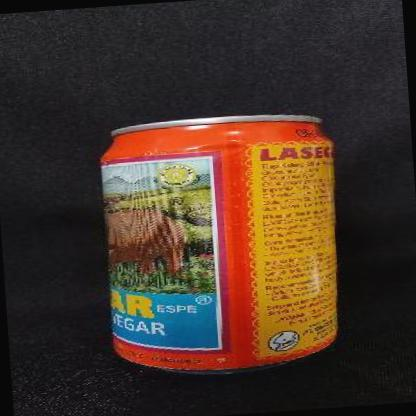alumunium_can: (98, 109, 351, 382)
